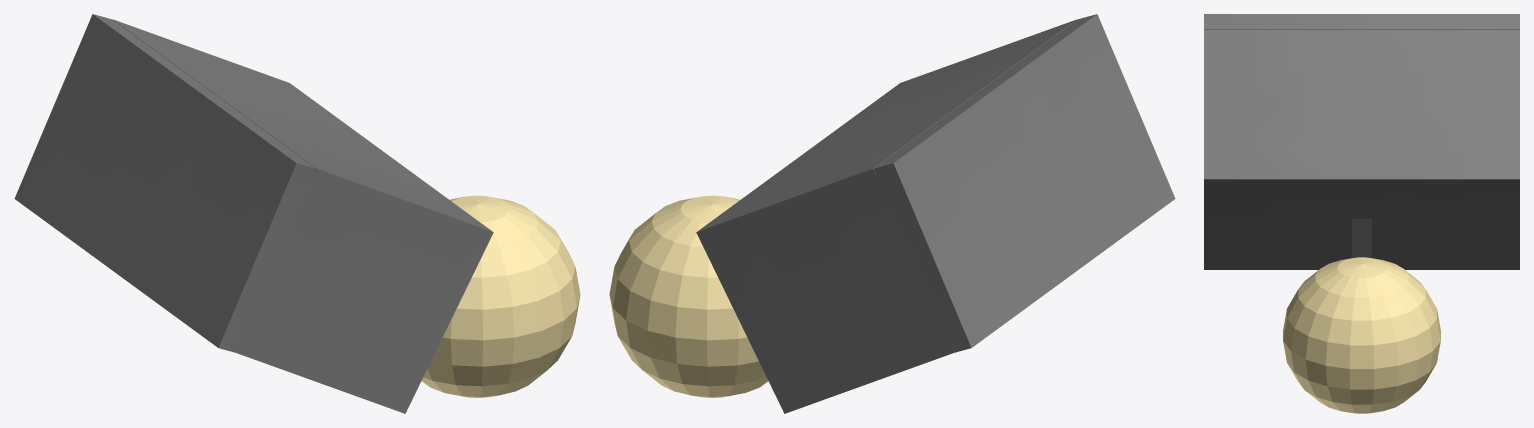
Rendered from dc_metro_roof_d2l.obj.
3 renders of one model, left to right at view 1: azimuth 30°, elevation 25°; view 2: azimuth 150°, elevation 25°; view 3: azimuth 270°, elevation 25°, orthographic. The views are drawn at different scales.
Visible parts, largest first — view 1: part2l; view 2: part2l; view 3: part2l.
Part boxes in pixels (bbox=[...]): part2l: bbox=[14, 14, 580, 413]; part2l: bbox=[609, 14, 1175, 413]; part2l: bbox=[1204, 14, 1519, 413].
Bounding box in the file's own units: 1.27 × 0.9996 × 1.
3 materials, 3 textured.
